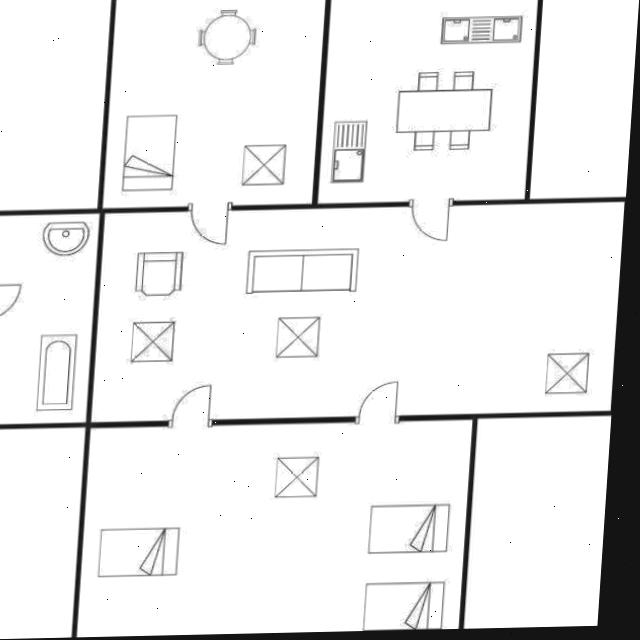room: (86, 202, 629, 422), (72, 420, 477, 637), (103, 0, 325, 209), (318, 0, 538, 204), (0, 213, 100, 424)
